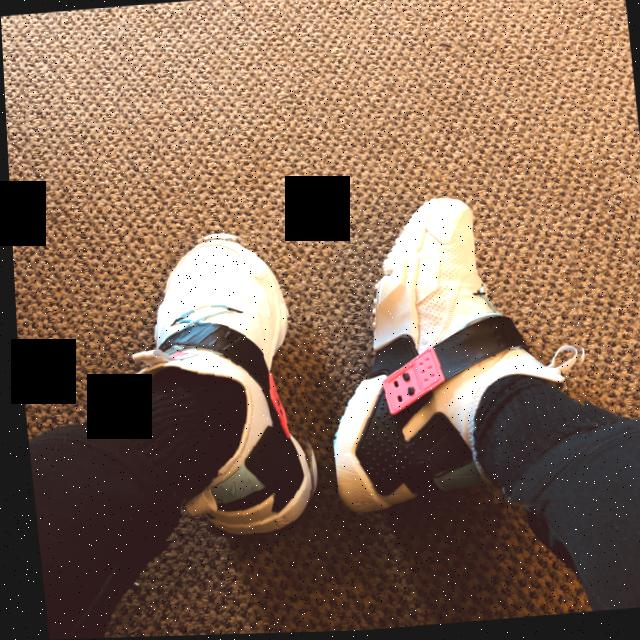shoe: (306, 189, 599, 519), (108, 227, 321, 544)
